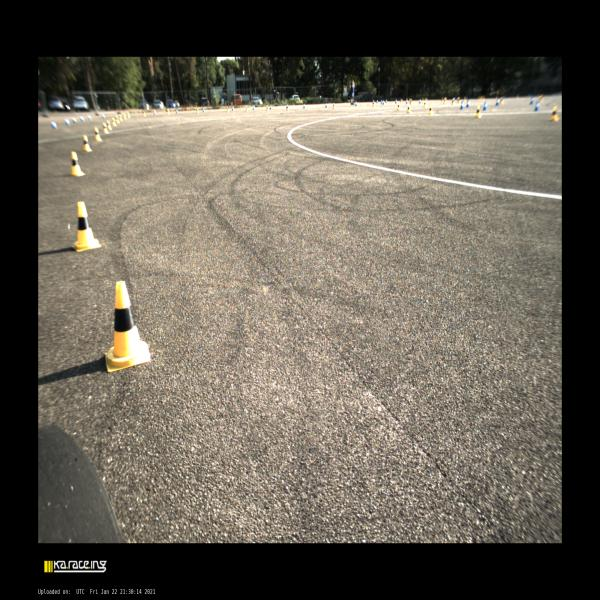blue_cone: (533, 101, 539, 111), (528, 97, 533, 105), (483, 102, 487, 110), (460, 101, 464, 109), (466, 100, 470, 108), (495, 99, 499, 106), (66, 119, 70, 126), (324, 102, 328, 108), (53, 122, 56, 129), (382, 99, 385, 105), (81, 116, 84, 122), (252, 105, 255, 110), (88, 115, 91, 120), (102, 113, 105, 118), (269, 105, 272, 109), (303, 103, 305, 109), (419, 98, 421, 104), (202, 107, 204, 112), (176, 109, 178, 114), (232, 105, 234, 110), (355, 101, 357, 106), (406, 99, 408, 104), (74, 118, 76, 123), (154, 111, 156, 115), (376, 100, 378, 104), (395, 99, 397, 103), (381, 100, 382, 104), (386, 99, 387, 103)
yellow_cone: (104, 280, 151, 372), (71, 201, 101, 252), (71, 152, 84, 176), (83, 136, 91, 151), (550, 108, 558, 121), (94, 128, 102, 140), (475, 105, 482, 118), (103, 123, 108, 134), (429, 105, 434, 115), (108, 122, 112, 130), (113, 119, 117, 126), (332, 103, 336, 109), (407, 106, 410, 113), (457, 97, 460, 104), (500, 97, 503, 104), (116, 118, 120, 123), (120, 115, 123, 121), (124, 114, 127, 120), (143, 111, 146, 117), (266, 105, 269, 111), (286, 105, 289, 111), (372, 101, 375, 107), (451, 99, 454, 105), (539, 96, 542, 102), (226, 107, 229, 112), (444, 97, 446, 104), (397, 104, 399, 110), (128, 113, 130, 119), (196, 108, 198, 114), (246, 106, 248, 112), (424, 101, 426, 107), (410, 100, 412, 105), (400, 98, 402, 103), (168, 110, 169, 115)
